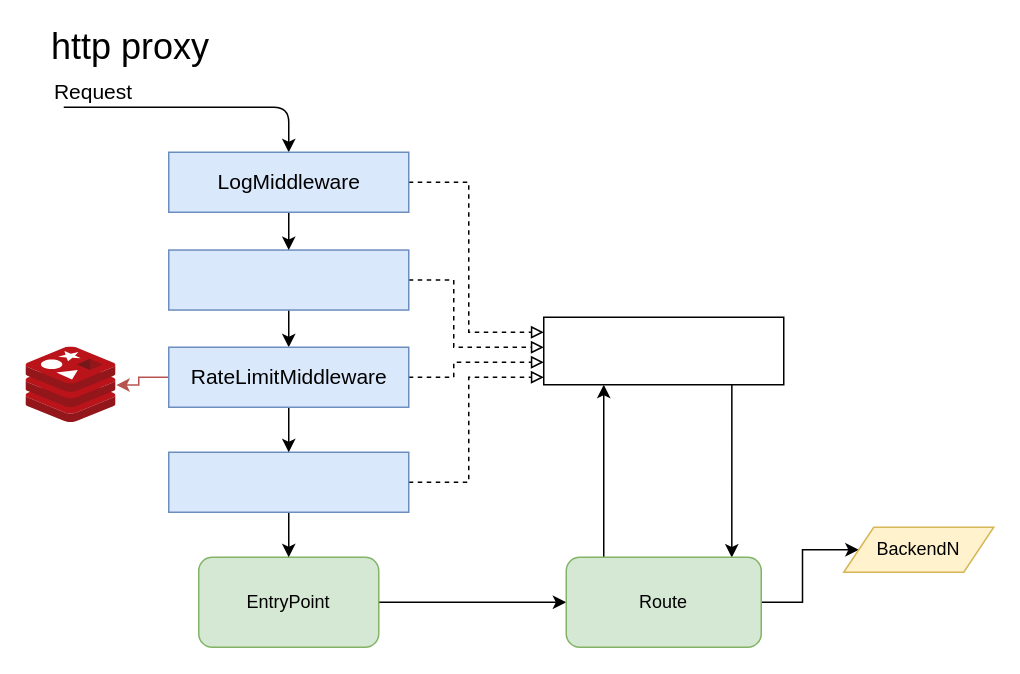
Some shapes in this 1020 by 674 pixel diagram are drawn without their labels. Each missing label, with the centre of its shape:
AdminMiddleware: the point at 288,481
StatsMiddleware: the point at 288,279
«interface» Middleware: the point at 663,350
